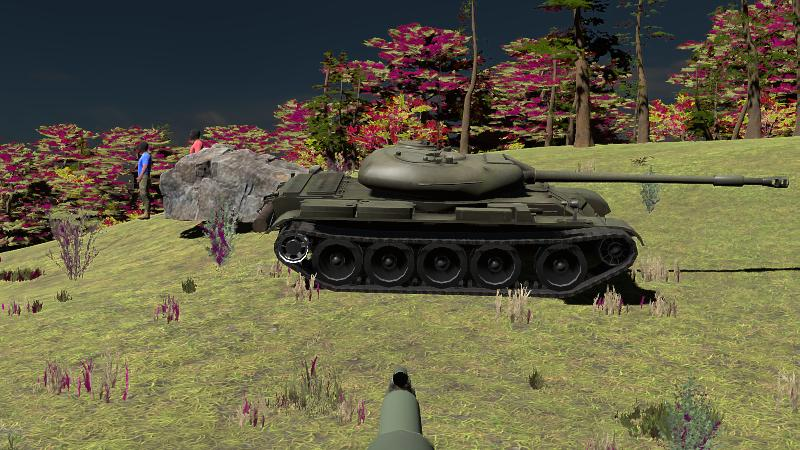Human: (136, 141, 152, 220)
Tank: (259, 142, 787, 299)
